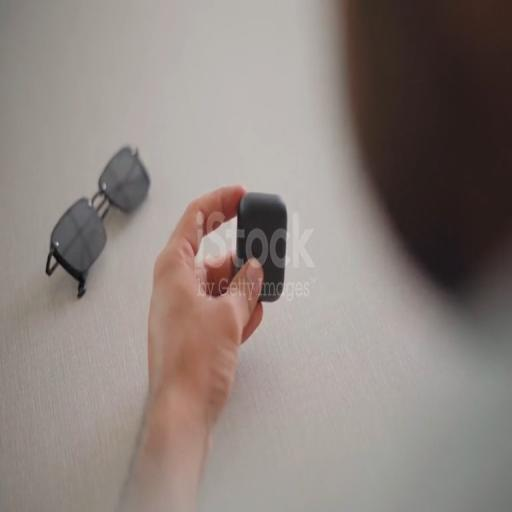earphone: (231, 174, 287, 310)
